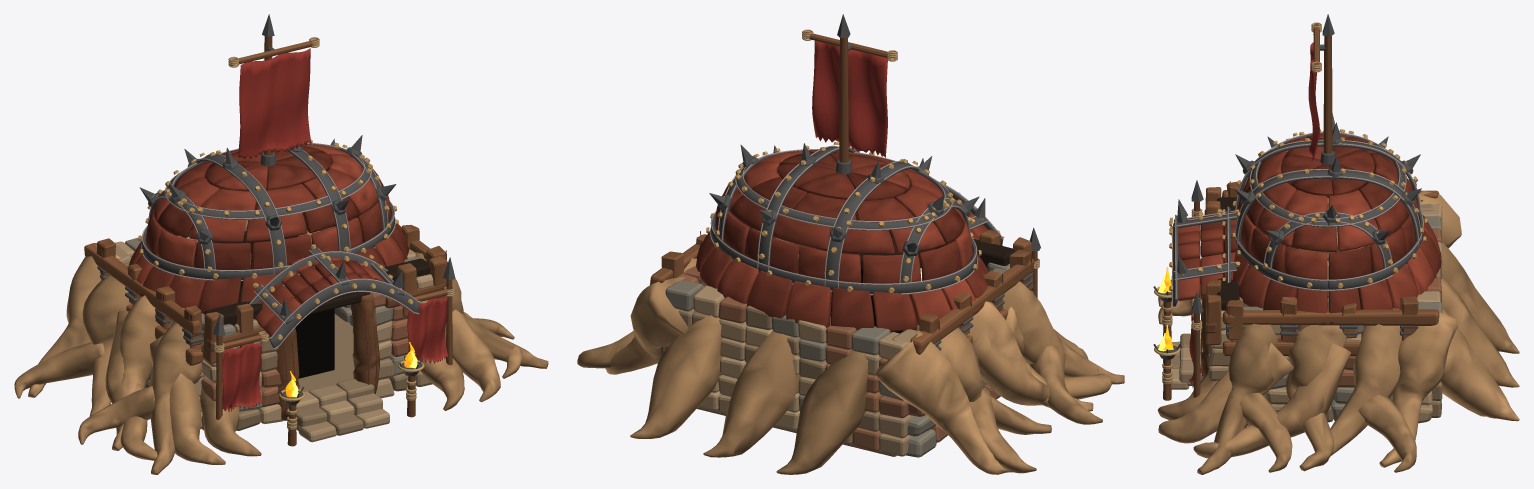
The model's file is source.glb.
3 renders of one model, left to right at view 1: azimuth 30°, elevation 25°; view 2: azimuth 150°, elevation 25°; view 3: azimuth 270°, elevation 25°, orthographic. The views are drawn at different scales.
Parts seen in each view (by area): view 1: Rootbound Hall · evaluated preview mesh; view 2: Rootbound Hall · evaluated preview mesh; view 3: Rootbound Hall · evaluated preview mesh.
Boxes of the visible parts, box(x1,y1,x2,y2) form: Rootbound Hall · evaluated preview mesh: box(14, 14, 548, 474); Rootbound Hall · evaluated preview mesh: box(577, 14, 1124, 474); Rootbound Hall · evaluated preview mesh: box(1153, 14, 1519, 474).
Bounding box in the file's own units: 8.74 × 6.92 × 6.43.
